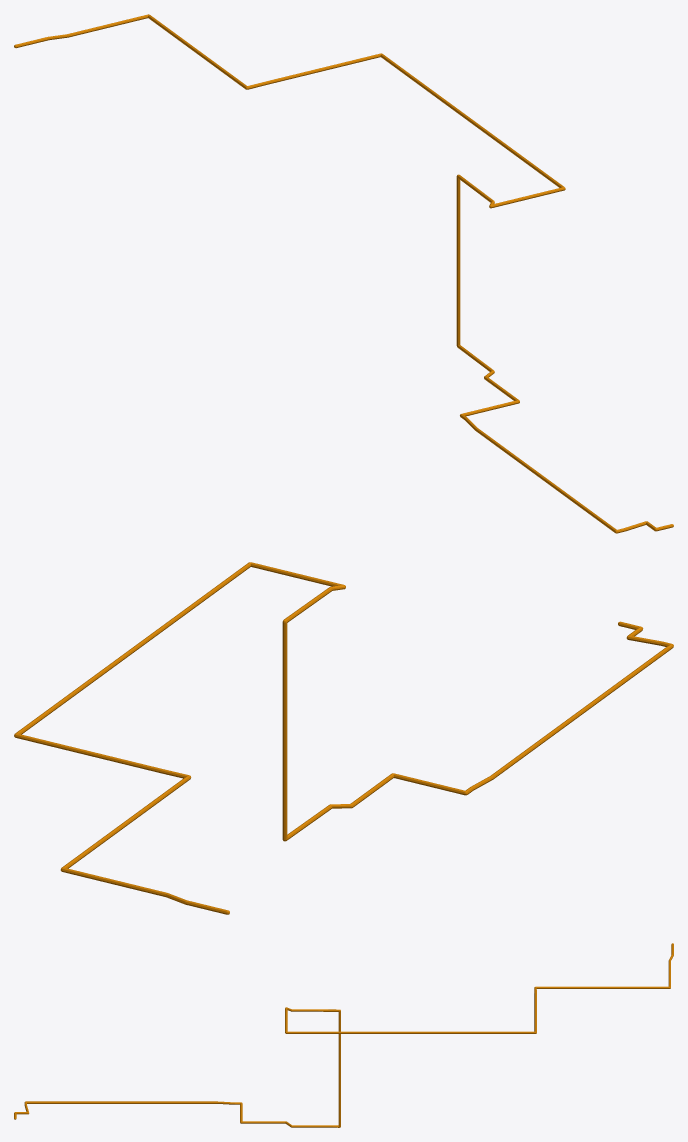
3 views of the same model, one above another, from view 1: azimuth 30°, elevation 25°; view 2: azimuth 150°, elevation 25°; view 3: azimuth 270°, elevation 25° (orthographic). The views are drawn at different scales.
Bounding box in the file's own units: 1656 × 1020 × 5160.
